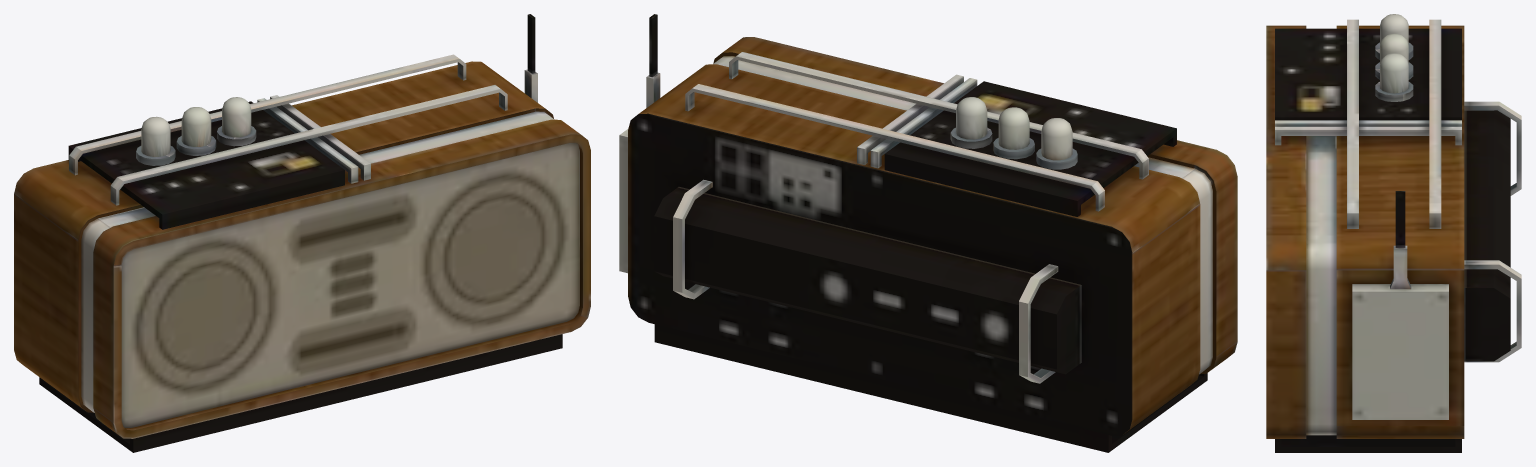
Rendered from SM_Radio_01_95473c.glb.
The picture shows the model from 3 angles, left to right: view 1: azimuth 30°, elevation 25°; view 2: azimuth 150°, elevation 25°; view 3: azimuth 270°, elevation 25°; orthographic projection. The views are drawn at different scales.
Size of the model in its own units: 0.7509 by 0.4046 by 0.3381.
1 material, 1 textured.
